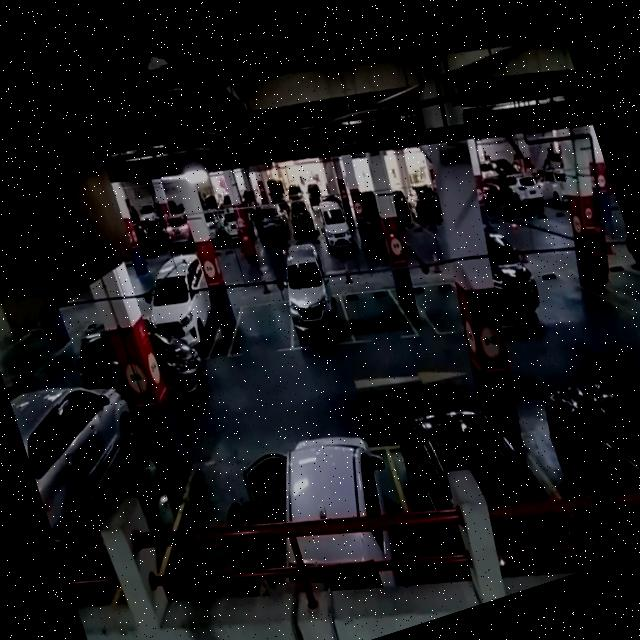empty: (137, 441, 296, 602), (218, 291, 298, 368), (338, 275, 412, 354), (412, 274, 469, 340)
occupied: (383, 405, 554, 592), (263, 423, 427, 604), (147, 270, 230, 372), (474, 223, 550, 333), (274, 256, 354, 360)
